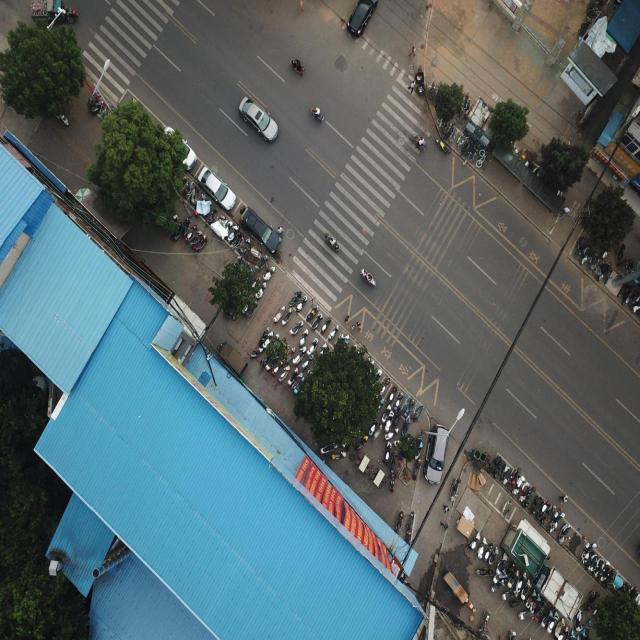p3rson: (560, 204, 570, 219), (407, 80, 415, 94), (407, 44, 416, 56), (558, 493, 568, 503), (276, 225, 284, 237), (439, 521, 448, 531), (299, 0, 304, 12)
